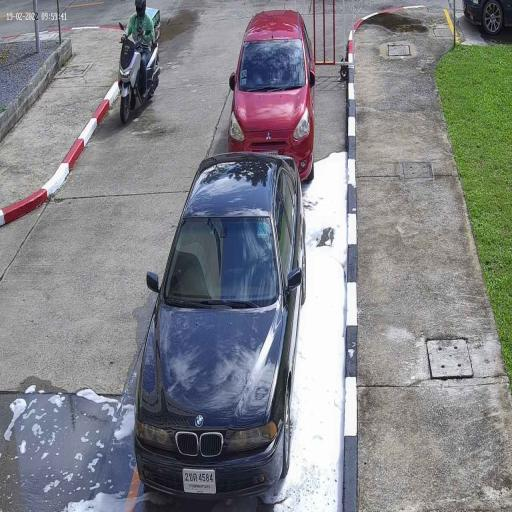car: (133, 151, 305, 500), (228, 8, 316, 184)
motorcycle: (117, 36, 162, 128)
